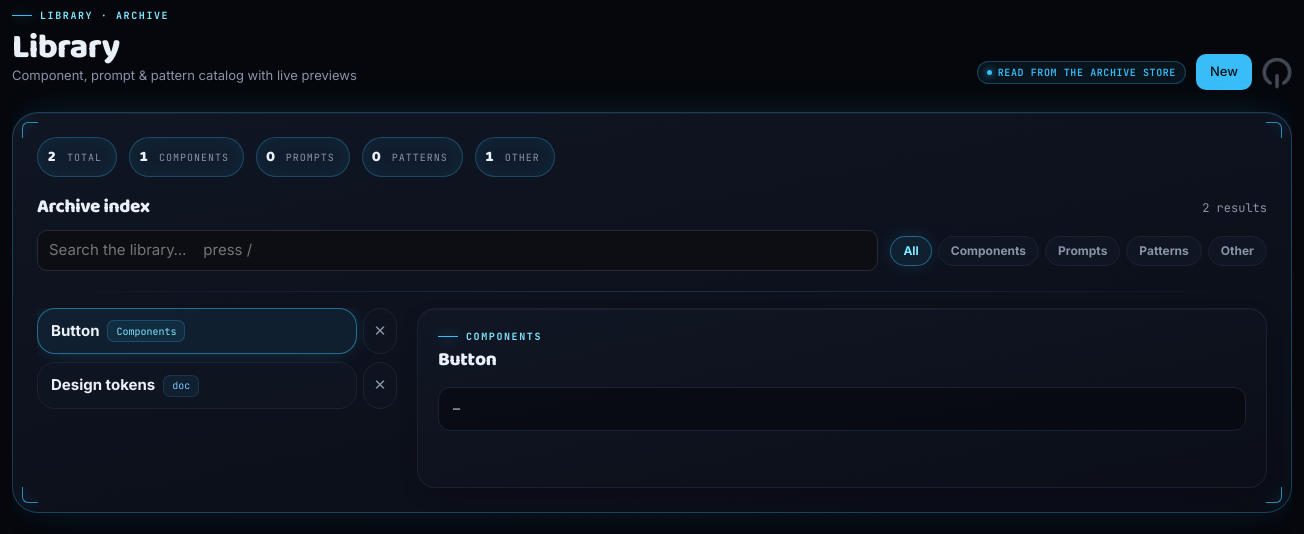
Test: Library — a row whose kind the page does not know is still counted and reachable › an Other filter shows exactly those rows
Check: the text "Design tokens" is shown, box [51, 374, 155, 397]
Click the button "Other" at (1237, 250), box [1208, 236, 1267, 266]
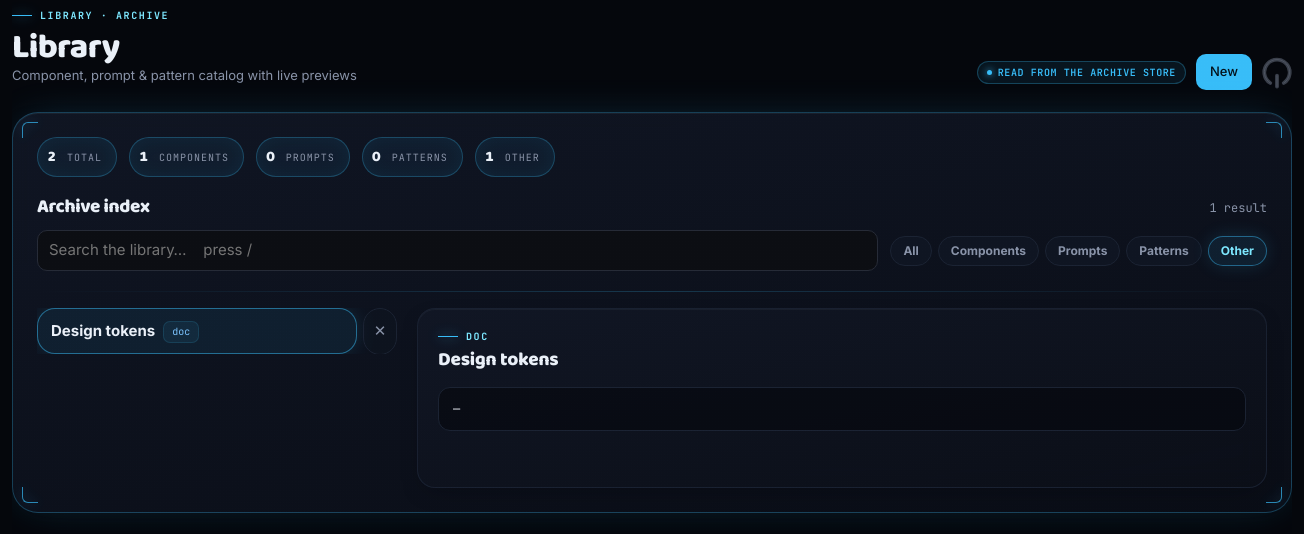
Check: the text with class "lib-item-title" reads "Design tokens", box [51, 321, 155, 340]
Check: the number of elements with class "lib-item-title" is 1, box [51, 320, 155, 342]
